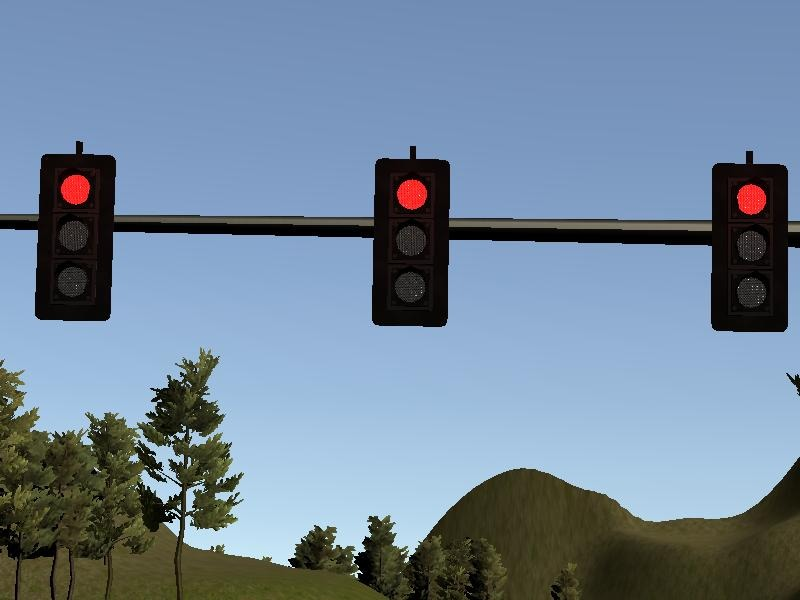red: (34, 155, 115, 319), (708, 165, 789, 329), (370, 160, 451, 324)
